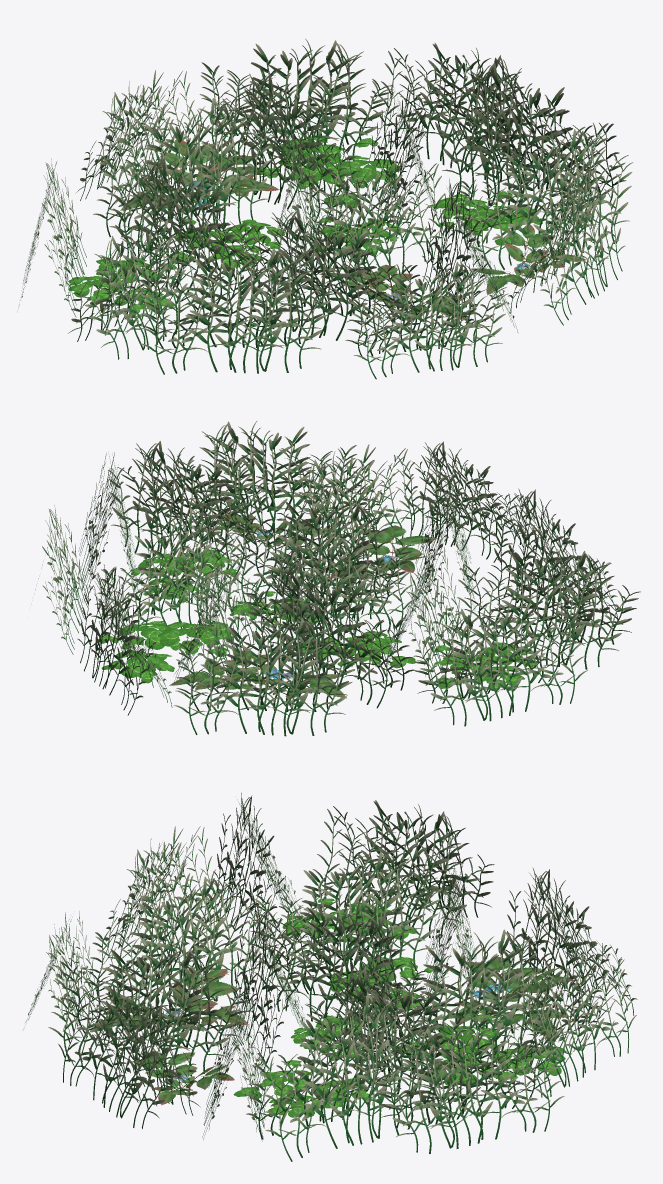
File: LeafyBerryGrass_Patch.fbx
The picture shows the model from 3 angles, top to bottom: view 1: azimuth 30°, elevation 25°; view 2: azimuth 150°, elevation 25°; view 3: azimuth 270°, elevation 25°; orthographic projection. The views are drawn at different scales.
Parts seen in each view (by area): view 1: LeafyBerryGrassPatch; view 2: LeafyBerryGrassPatch; view 3: LeafyBerryGrassPatch.
Boxes of the visible parts, box(x1,y1,x2,y2) form: LeafyBerryGrassPatch: box(19, 38, 633, 379); LeafyBerryGrassPatch: box(35, 421, 640, 736); LeafyBerryGrassPatch: box(25, 792, 637, 1161).
Size of the model in its own units: 216 by 200 by 48.93.
